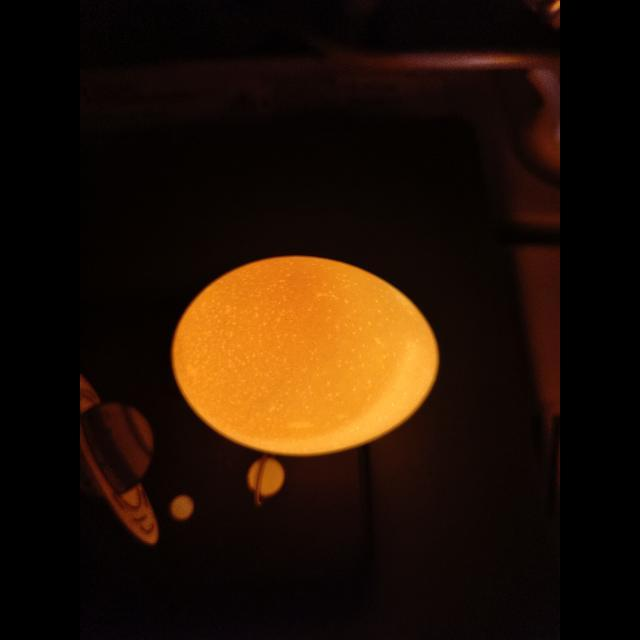AA - Premium: (173, 256, 439, 455)
